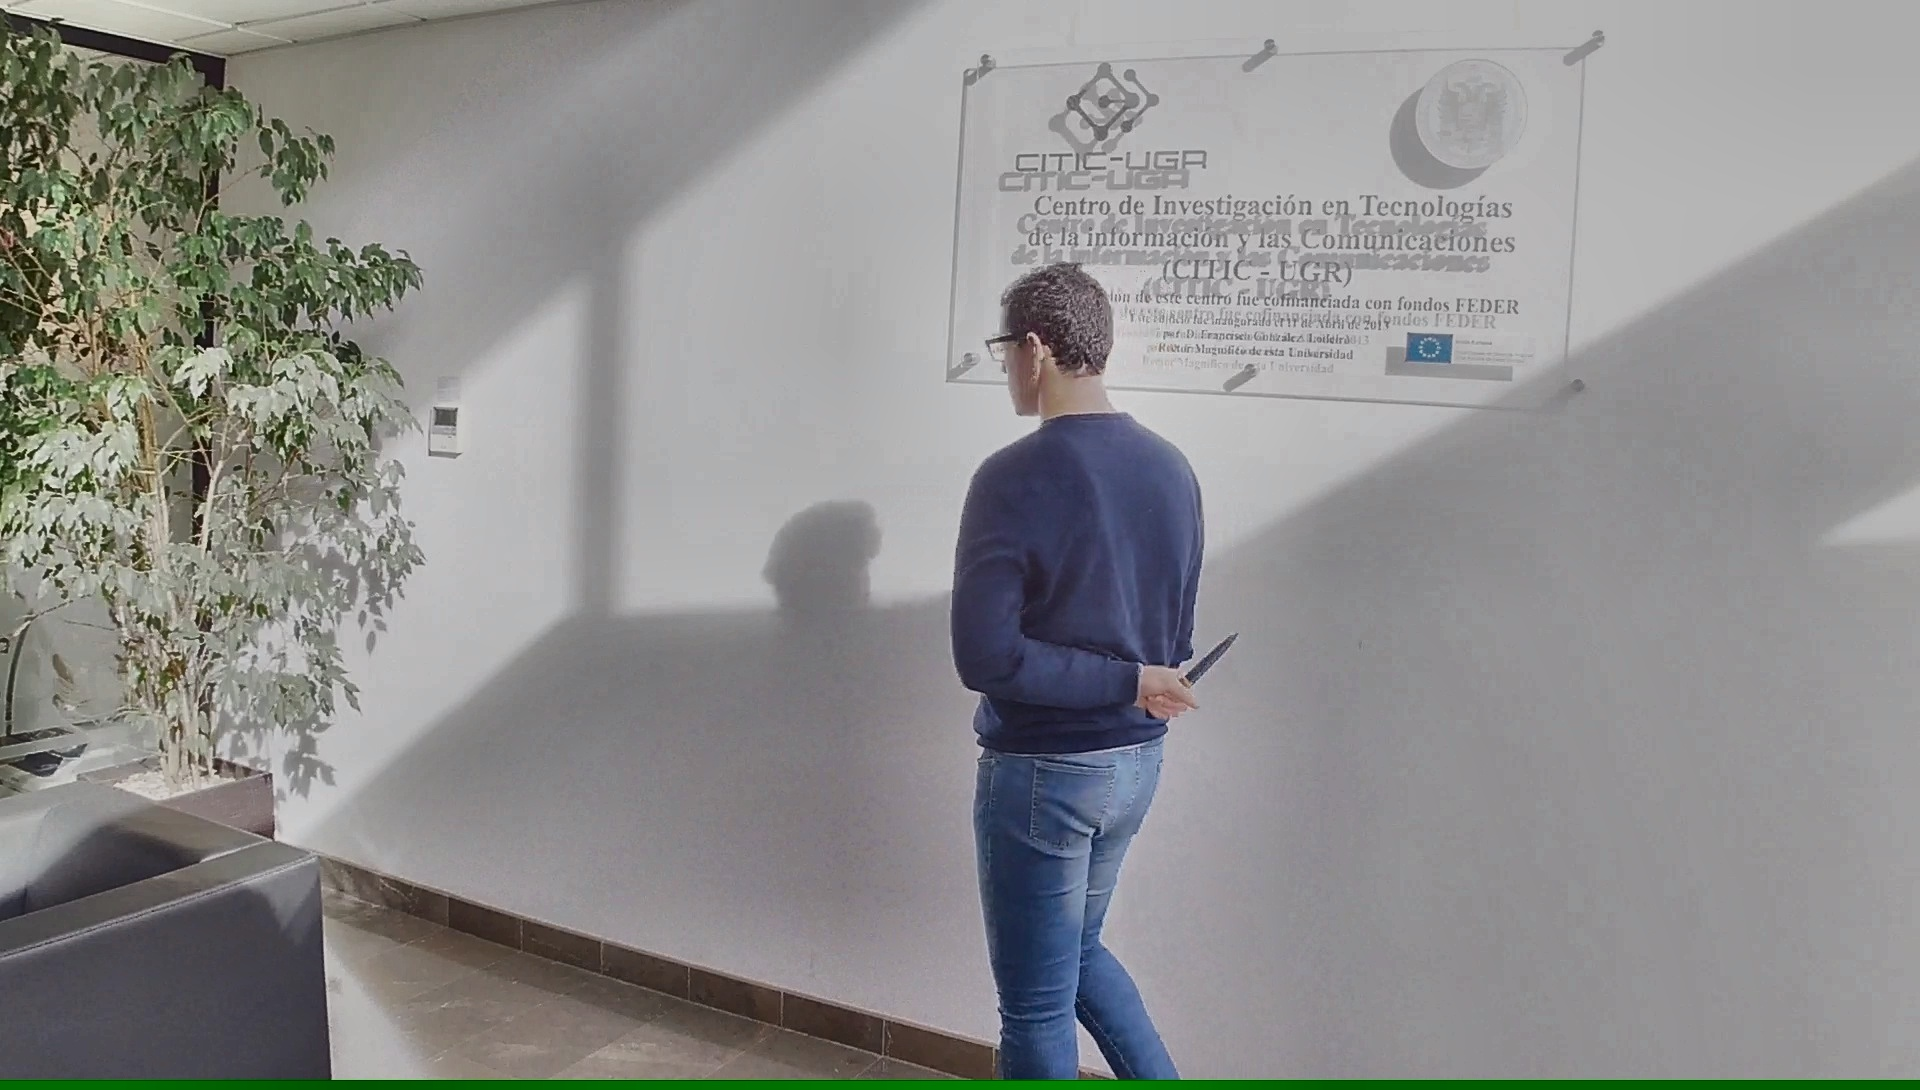knife: (1139, 625, 1250, 724)
